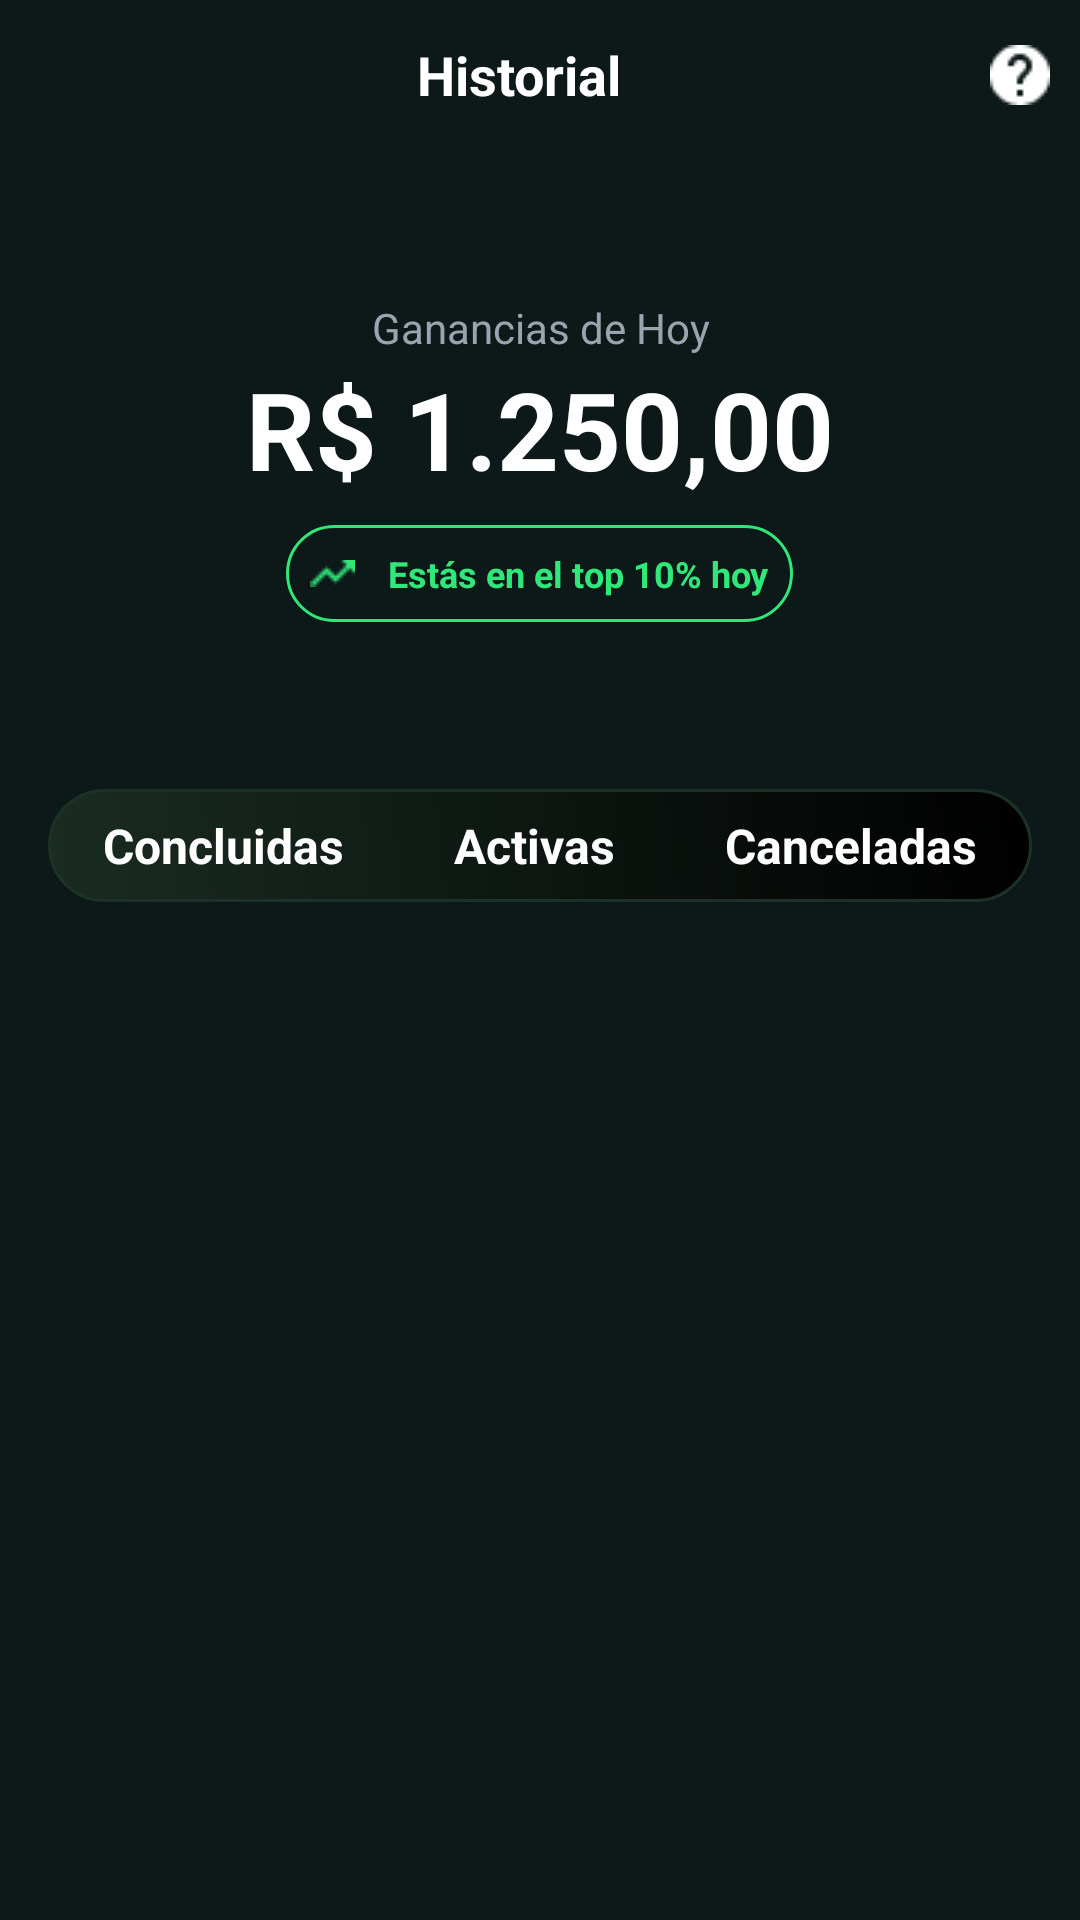

Icons on this 1080 × 1920 Android screen, each with the point to tap as point (x, y):
help: point (1020, 75)
